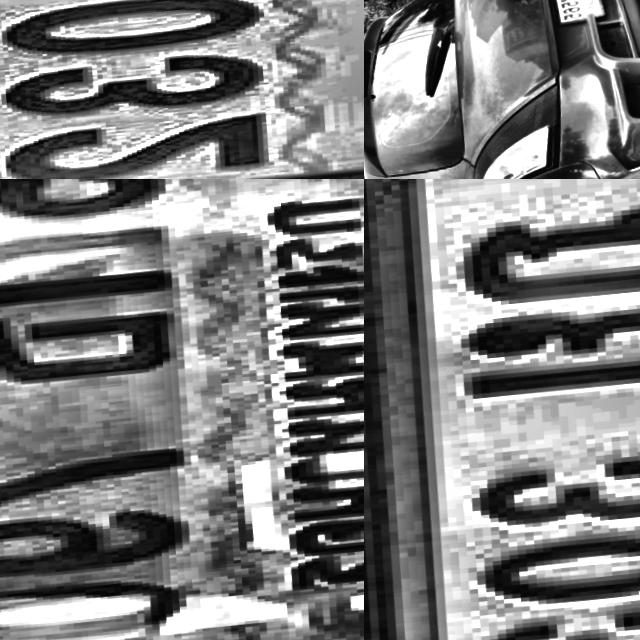license-plate: (0, 179, 364, 640), (364, 179, 640, 640), (0, 0, 364, 179), (543, 0, 607, 26)
